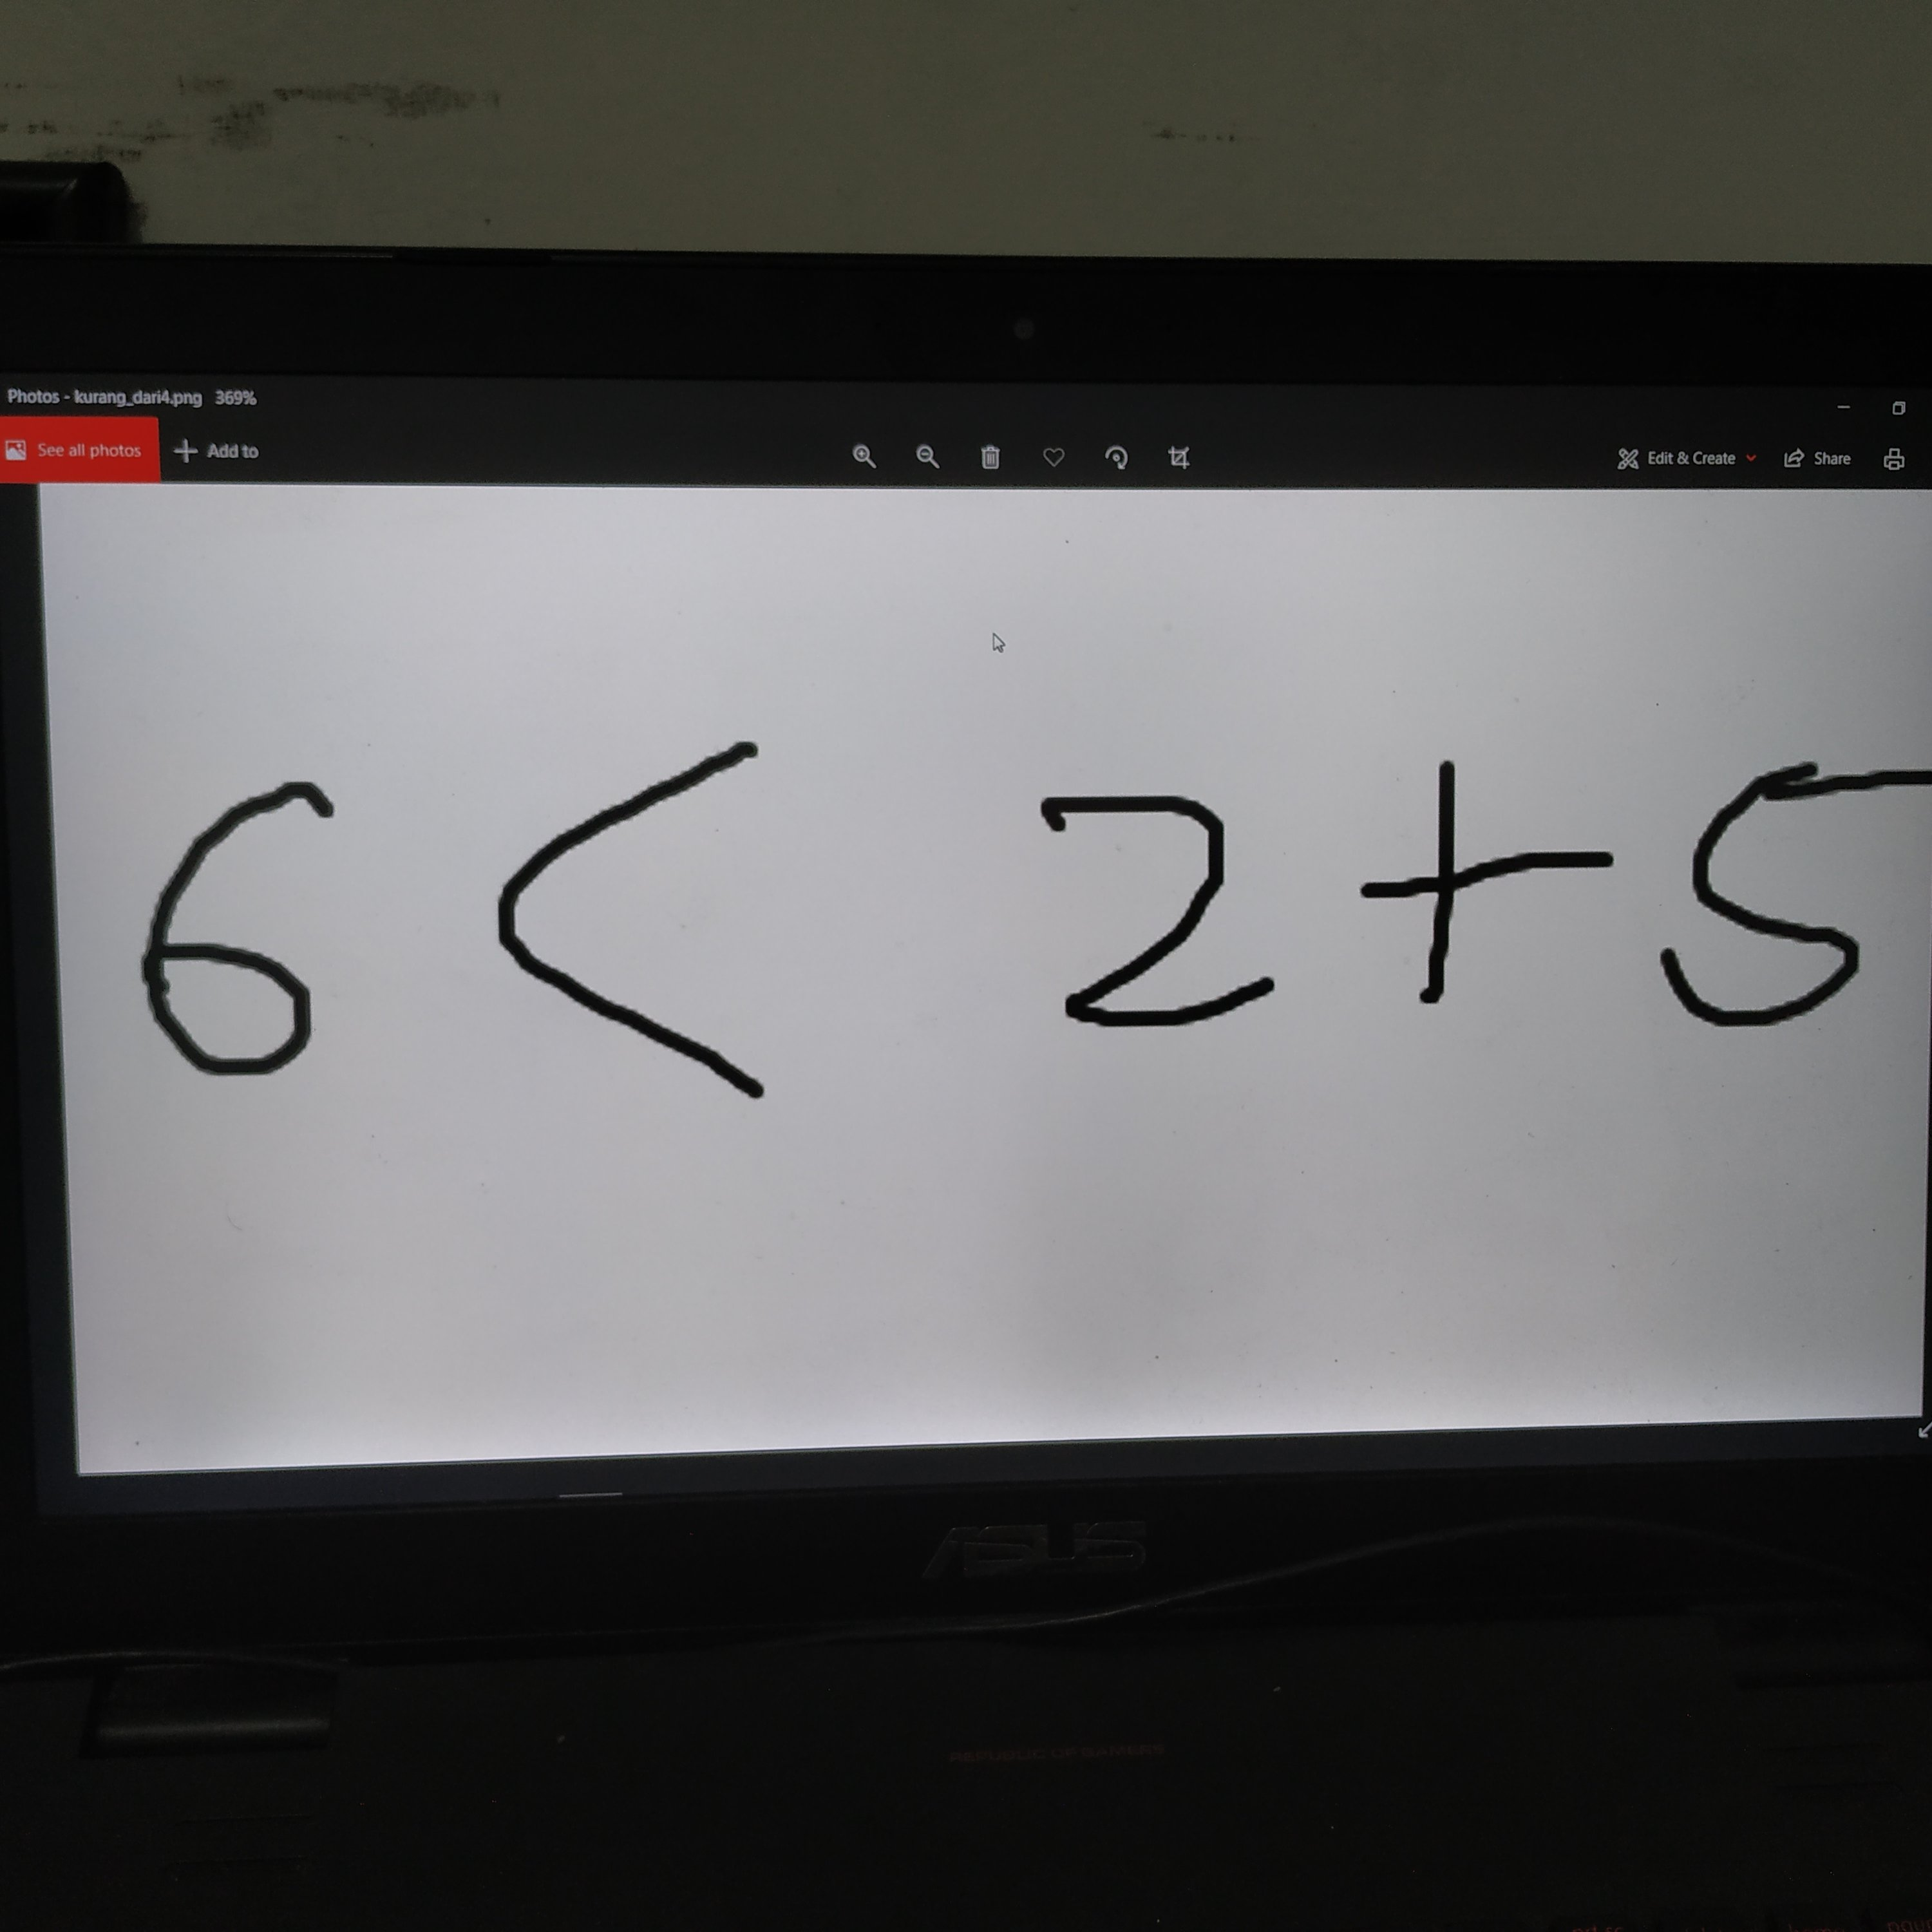lessthan: (487, 729, 804, 1120)
num2: (1012, 782, 1318, 1043)
num5: (1652, 745, 1932, 1045)
num6: (122, 762, 364, 1090)
sum: (1340, 745, 1632, 1047)
